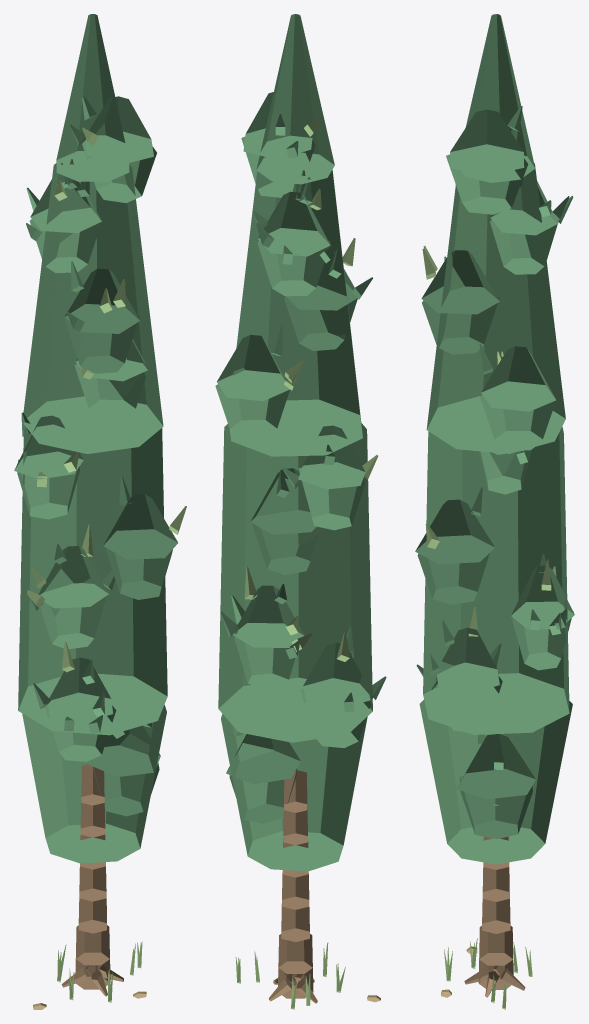
File: poplar.glb
3 views of the same model, side by side, from view 1: azimuth 30°, elevation 25°; view 2: azimuth 150°, elevation 25°; view 3: azimuth 270°, elevation 25° (orthographic).
Visible parts, largest first — view 1: Crown.Core#2, Crown.Core#3, Crown.Core, Crown.Core#4, Crown#8, Crown#14, Crown#18, Crown#6, Crown#4, Crown#13, Crown#5, Crown#7 (+16 smaller); view 2: Crown.Core#2, Crown.Core#3, Crown.Core, Crown.Core#4, Crown#12, Crown#16, Crown#4, Crown#6, Crown#10, Crown#2, Crown#15, Crown#9 (+16 smaller); view 3: Crown.Core#2, Crown.Core#3, Crown.Core, Crown.Core#4, Crown#18, Crown#2, Crown#8, Crown#12, Crown#14, Crown#4, Crown, Crown#7 (+12 smaller).
Part boxes in pixels (bbox=[...]): Crown.Core#2: bbox=[18, 427, 167, 735]; Crown.Core#3: bbox=[23, 163, 163, 453]; Crown.Core: bbox=[22, 705, 166, 863]; Crown.Core#4: bbox=[56, 14, 129, 181]; Crown#8: bbox=[103, 494, 177, 559]; Crown#14: bbox=[65, 268, 139, 333]; Crown#18: bbox=[85, 96, 153, 164]; Crown#6: bbox=[38, 546, 108, 608]; Crown#4: bbox=[48, 657, 113, 722]; Crown#13: bbox=[65, 315, 139, 373]; Crown#5: bbox=[38, 590, 108, 649]; Crown#7: bbox=[106, 548, 172, 599]; Crown.Core#2: bbox=[218, 423, 372, 742]; Crown.Core#3: bbox=[229, 170, 362, 456]; Crown.Core: bbox=[221, 714, 367, 871]; Crown.Core#4: bbox=[256, 14, 334, 184]; Crown#12: bbox=[217, 334, 289, 401]; Crown#16: bbox=[258, 191, 330, 256]; Crown#4: bbox=[303, 642, 370, 708]; Crown#6: bbox=[233, 585, 304, 647]; Crown#10: bbox=[298, 425, 365, 489]; Crown#2: bbox=[226, 734, 300, 784]; Crown#15: bbox=[257, 240, 330, 296]; Crown#9: bbox=[298, 467, 364, 530]; Crown.Core#2: bbox=[423, 426, 569, 734]; Crown.Core#3: bbox=[426, 163, 565, 453]; Crown.Core: bbox=[419, 700, 572, 864]; Crown.Core#4: bbox=[461, 14, 535, 182]; Crown#18: bbox=[450, 109, 524, 175]; Crown#2: bbox=[456, 734, 535, 799]; Crown#8: bbox=[415, 499, 495, 564]; Crown#12: bbox=[481, 346, 555, 411]; Crown#14: bbox=[421, 250, 499, 314]; Crown#4: bbox=[437, 627, 499, 693]; Crown: bbox=[459, 775, 532, 839]; Crown#7: bbox=[417, 553, 489, 604].
Size of the model in its own units: 3 by 20.04 by 3.
